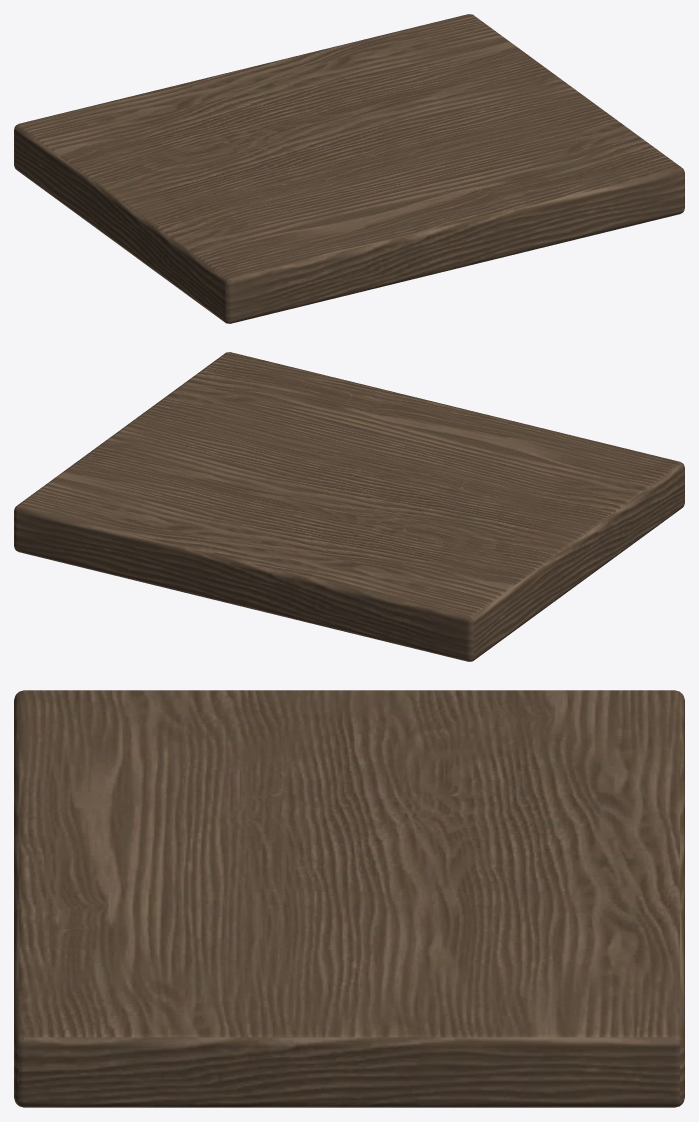
The model's file is bench.glb.
3 renders of one model, top to bottom at view 1: azimuth 30°, elevation 25°; view 2: azimuth 150°, elevation 25°; view 3: azimuth 270°, elevation 25°, orthographic. The views are drawn at different scales.
Visible parts, largest first — view 1: desk; view 2: desk; view 3: desk.
Boxes of the visible parts, <box> form: desk: <box>14,14,684,323</box>; desk: <box>14,352,684,661</box>; desk: <box>14,690,684,1107</box>.
Bounding box in the file's own units: 186 × 17.99 × 150.
1 material, 1 textured.
